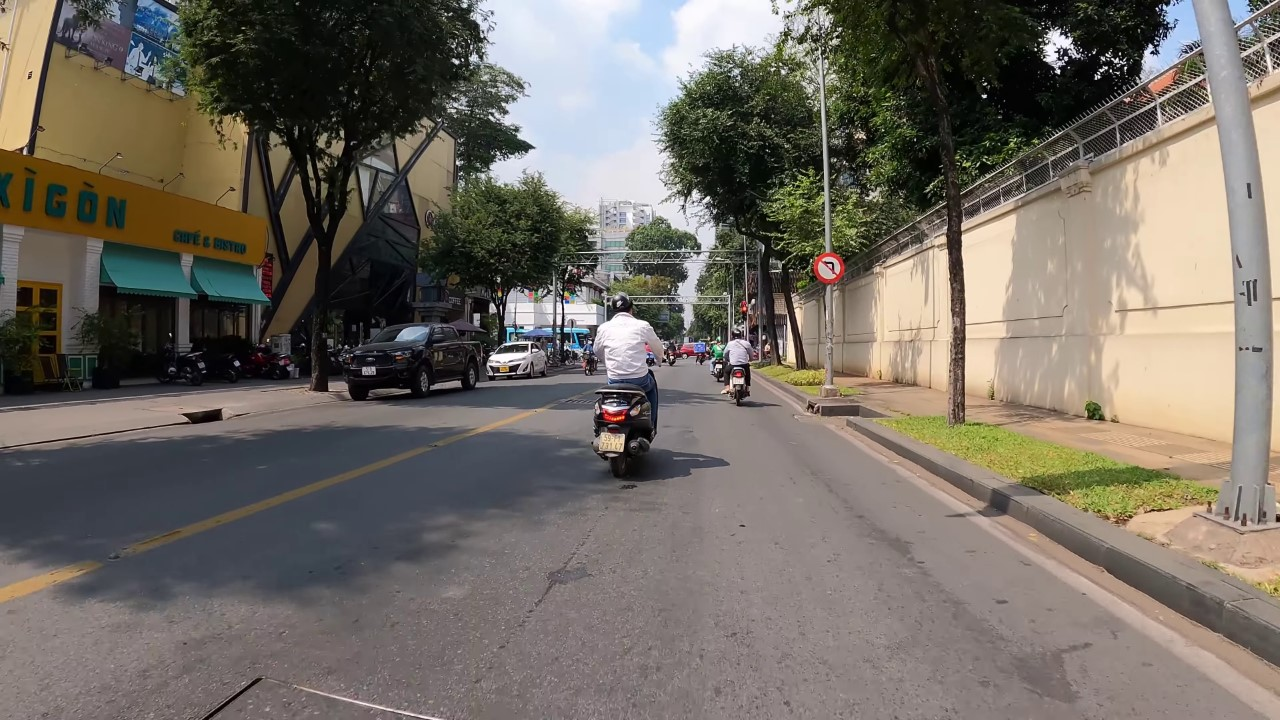cam_re_trai: (811, 249, 846, 285)
